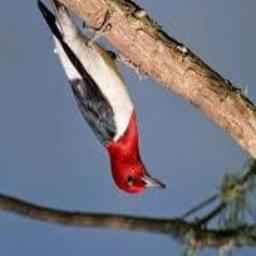Woodpecker: (36, 0, 166, 195)
